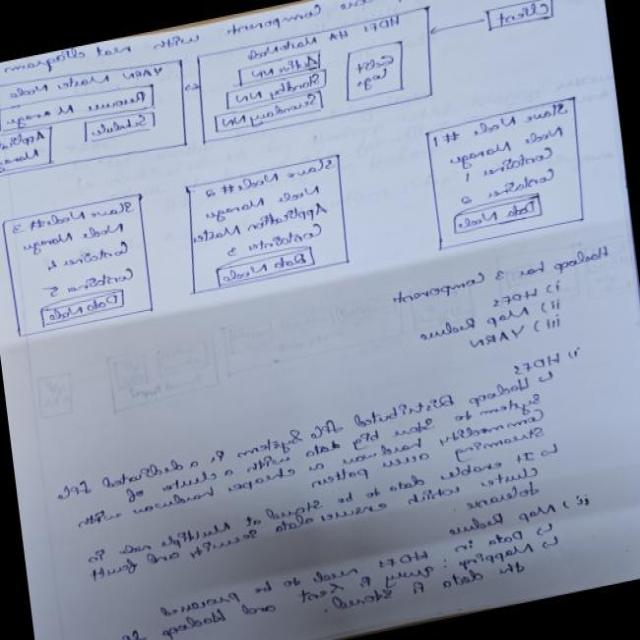Figure Detection - v3 Dataset Version2: (0, 0, 603, 353)
